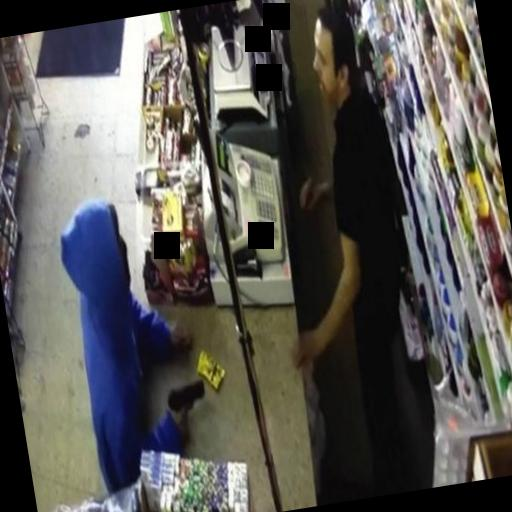Handgun: (158, 370, 212, 435)
